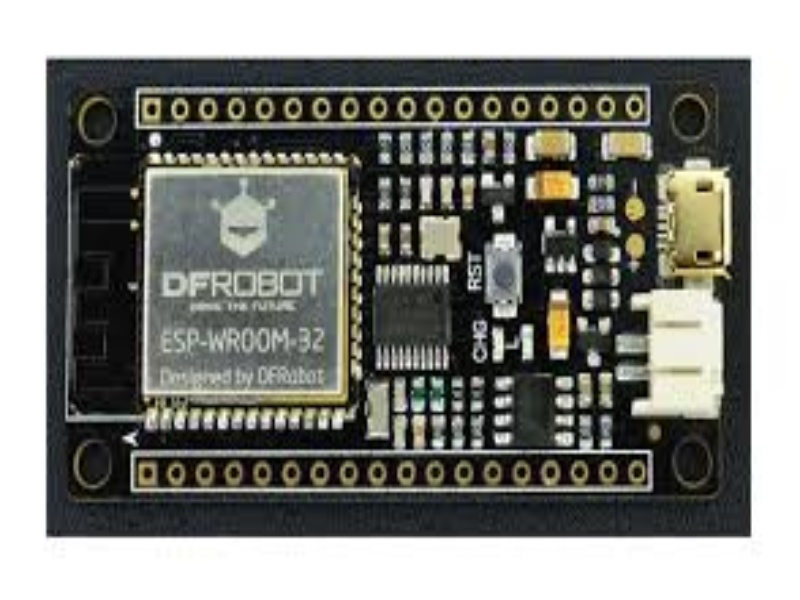esp32: (48, 82, 742, 509)
